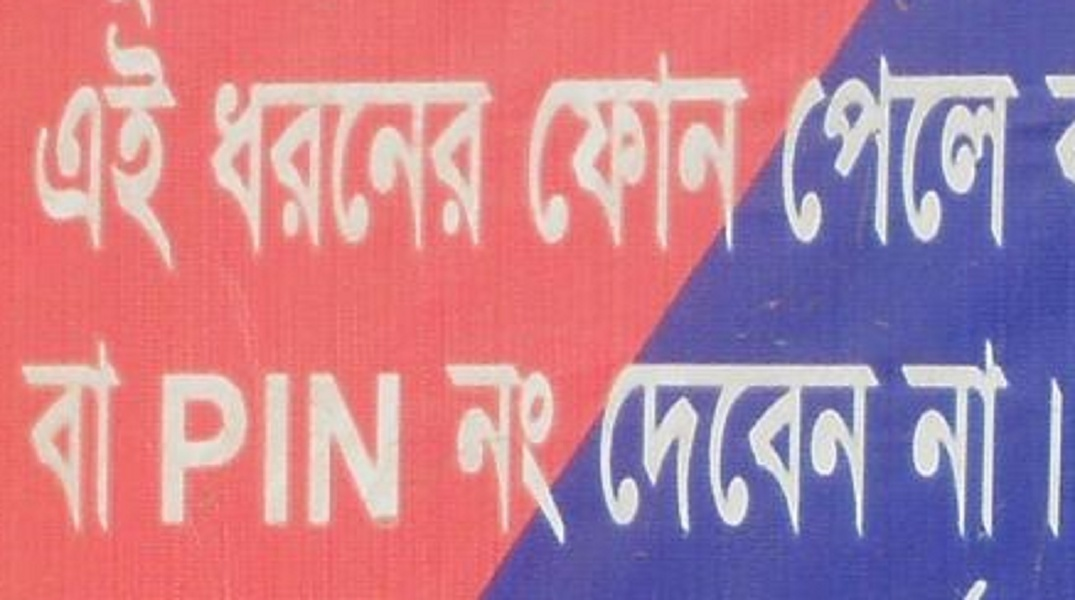text: (33, 21, 48, 272), (49, 21, 64, 272), (65, 21, 80, 272), (81, 21, 96, 272), (97, 21, 112, 272), (113, 21, 128, 272), (129, 21, 144, 272), (145, 21, 160, 272), (161, 21, 176, 272), (737, 52, 753, 258), (913, 332, 928, 542), (929, 332, 944, 542), (945, 332, 960, 542), (961, 332, 976, 542), (977, 332, 992, 542), (993, 332, 1008, 542), (33, 336, 48, 545), (49, 336, 64, 545), (65, 336, 80, 545), (81, 336, 96, 545), (97, 336, 112, 545), (113, 336, 128, 545), (529, 52, 544, 258), (545, 52, 560, 258), (561, 52, 576, 258), (577, 52, 592, 258), (593, 52, 608, 258), (609, 52, 624, 258), (625, 52, 640, 258), (641, 52, 656, 258), (657, 52, 672, 258), (673, 52, 688, 258), (689, 52, 704, 258), (705, 52, 720, 258), (721, 52, 736, 258), (785, 53, 800, 256), (801, 53, 816, 256), (817, 53, 832, 256), (833, 53, 848, 256), (849, 53, 864, 256), (865, 53, 880, 256), (881, 53, 896, 256), (897, 53, 912, 256), (913, 53, 928, 256), (929, 53, 944, 256), (945, 53, 960, 256), (961, 53, 976, 256), (977, 53, 992, 256), (993, 53, 1008, 256), (1009, 53, 1024, 256), (898, 332, 912, 542), (449, 363, 464, 553), (465, 363, 480, 553), (481, 363, 496, 553), (497, 363, 512, 553), (513, 363, 528, 553), (529, 363, 544, 553), (545, 363, 560, 553), (609, 362, 624, 546), (625, 362, 640, 546), (641, 362, 656, 546), (657, 362, 672, 546), (673, 362, 688, 546), (689, 362, 704, 546), (705, 362, 720, 546), (721, 362, 736, 546), (737, 362, 752, 546), (753, 362, 768, 546), (769, 362, 784, 546), (785, 362, 800, 546), (801, 362, 816, 546), (817, 362, 832, 546), (833, 362, 848, 546), (849, 362, 864, 546), (865, 362, 880, 546), (209, 73, 224, 255), (225, 73, 240, 255), (241, 73, 256, 255), (257, 73, 272, 255), (273, 73, 288, 255), (289, 73, 304, 255), (305, 73, 320, 255), (321, 73, 336, 255), (337, 73, 352, 255), (353, 73, 368, 255), (369, 73, 384, 255), (385, 73, 400, 255), (401, 73, 416, 255), (417, 73, 432, 255), (433, 73, 448, 255), (449, 73, 464, 255), (465, 73, 480, 255), (19, 336, 32, 545), (161, 361, 176, 539), (177, 361, 192, 539), (193, 361, 208, 539), (209, 361, 224, 539), (225, 361, 240, 539), (241, 361, 256, 539), (257, 361, 272, 539), (273, 361, 288, 539), (289, 361, 304, 539), (305, 361, 320, 539), (321, 361, 336, 539), (337, 361, 352, 539), (353, 361, 368, 539), (369, 361, 384, 539), (385, 361, 400, 539), (481, 73, 495, 255), (561, 363, 574, 553), (596, 362, 608, 546), (177, 21, 184, 272), (1041, 74, 1056, 186), (1057, 74, 1072, 186), (1050, 376, 1056, 539), (401, 361, 406, 539), (1009, 332, 1013, 542), (1057, 376, 1061, 539), (205, 73, 208, 255), (129, 336, 131, 545), (446, 363, 448, 553), (129, 1, 144, 26), (145, 1, 160, 26), (161, 1, 176, 26), (881, 362, 883, 546), (961, 576, 976, 600), (977, 576, 992, 600), (948, 576, 960, 600), (1073, 74, 1075, 186), (783, 53, 784, 256), (993, 576, 999, 600), (123, 1, 128, 26)
